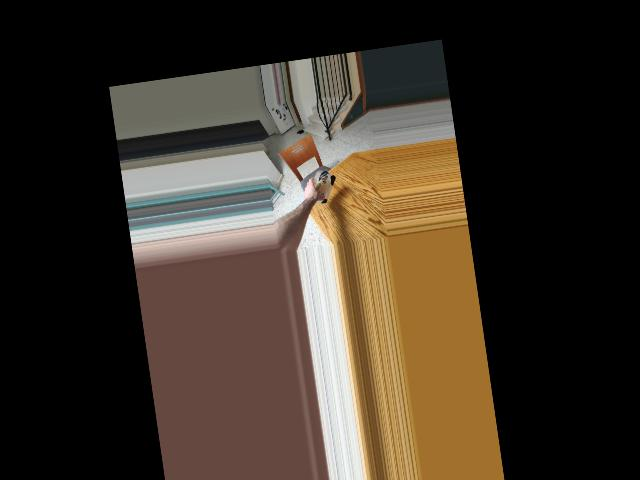cheese: (302, 168, 339, 208)
